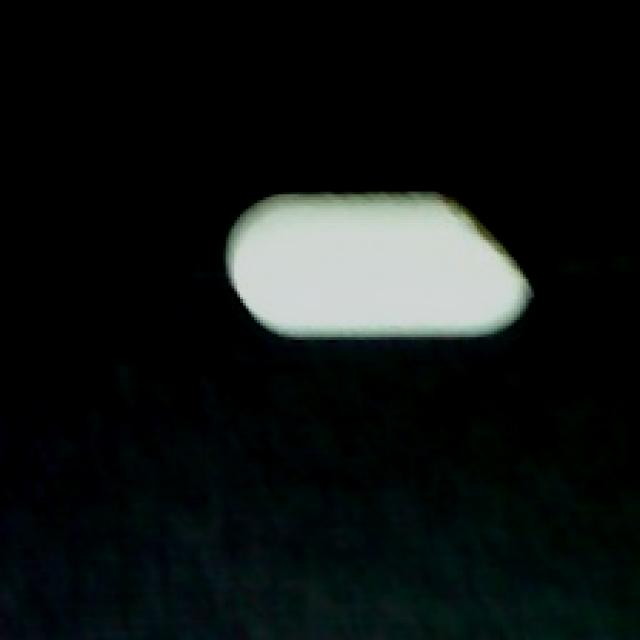defected: (223, 186, 537, 351)
